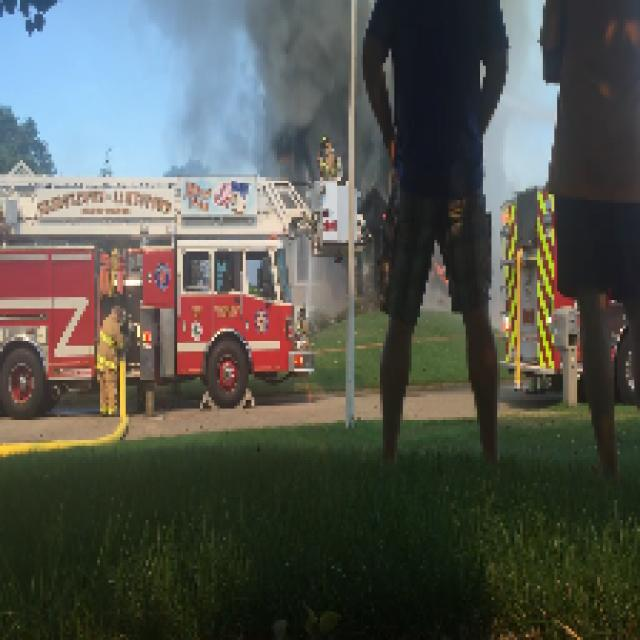smoke: (247, 0, 342, 172)
